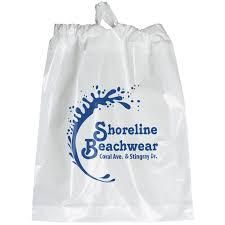Plastic bag: (21, 4, 204, 225)
